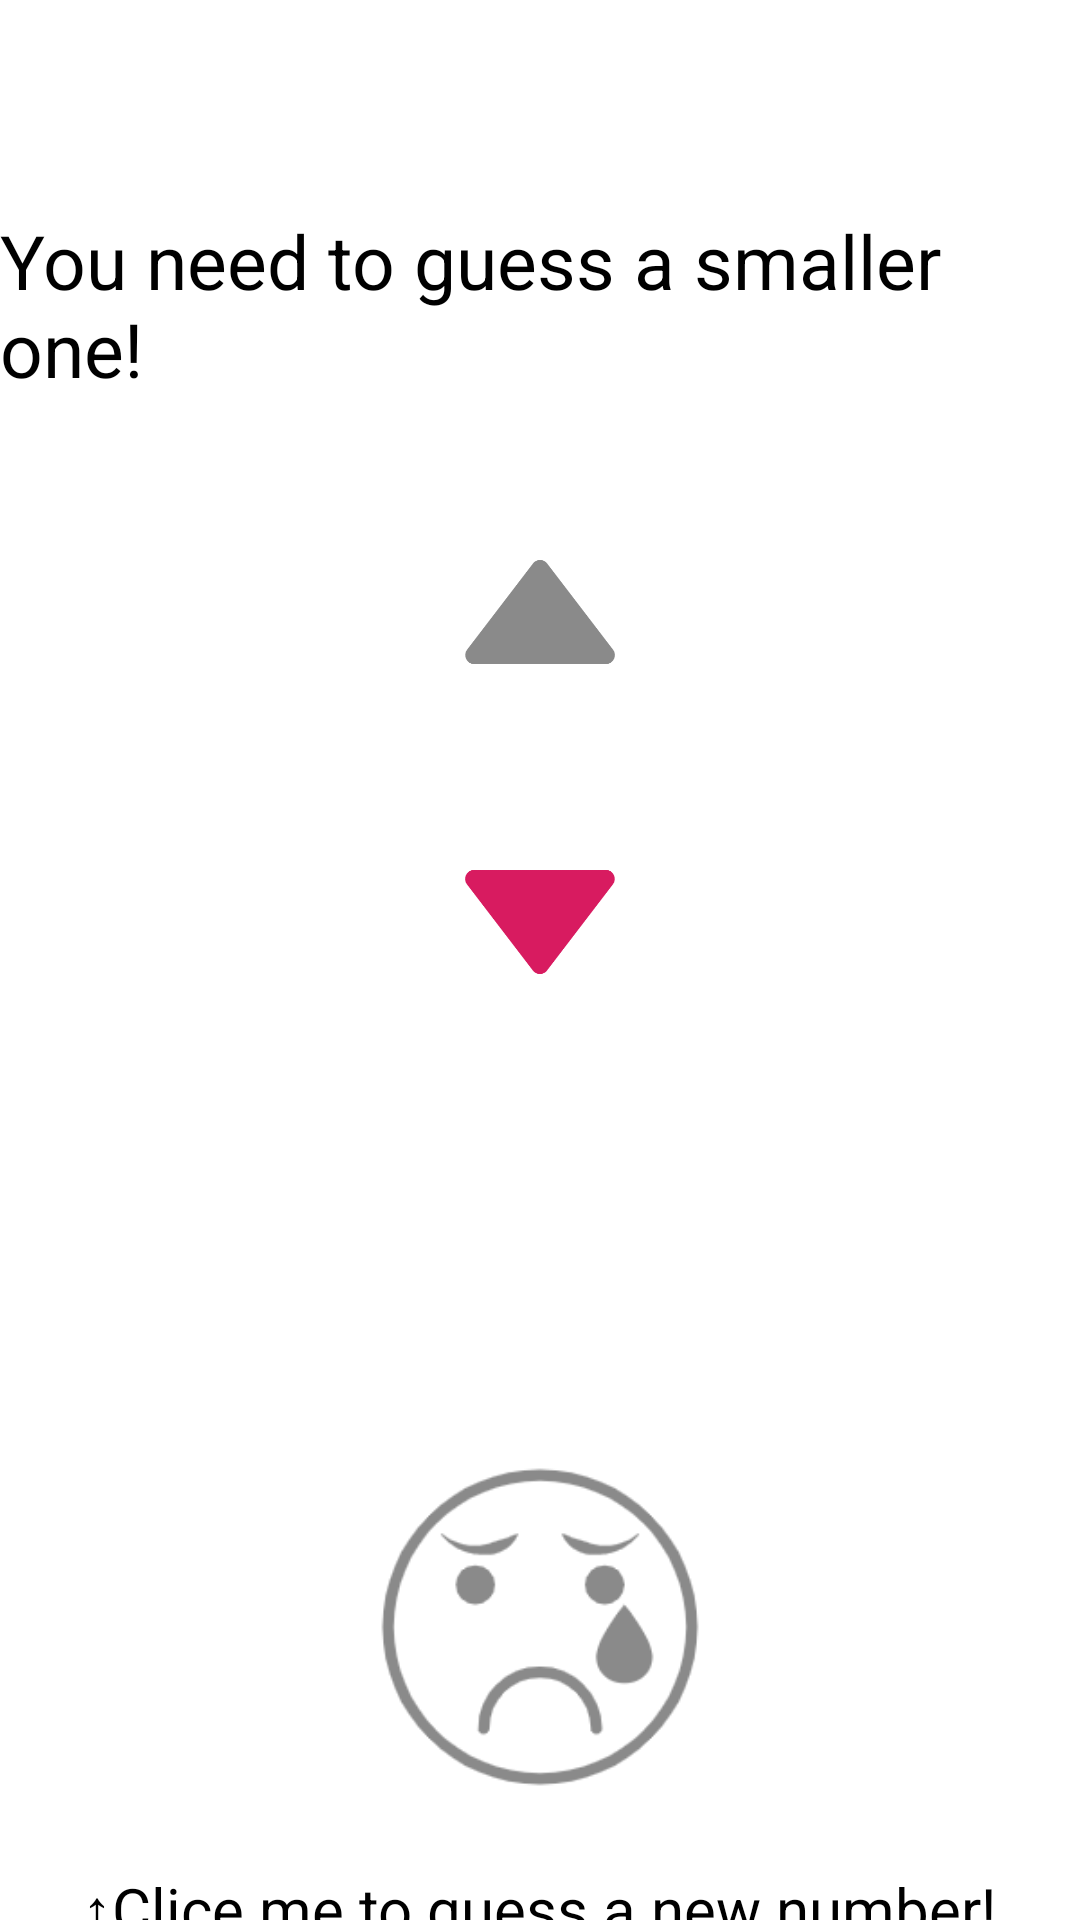

Icons on this 1080 x 1920 Android screen, each with the point to tap as (x,y):
down: (540,922)
sad: (540,1626)
